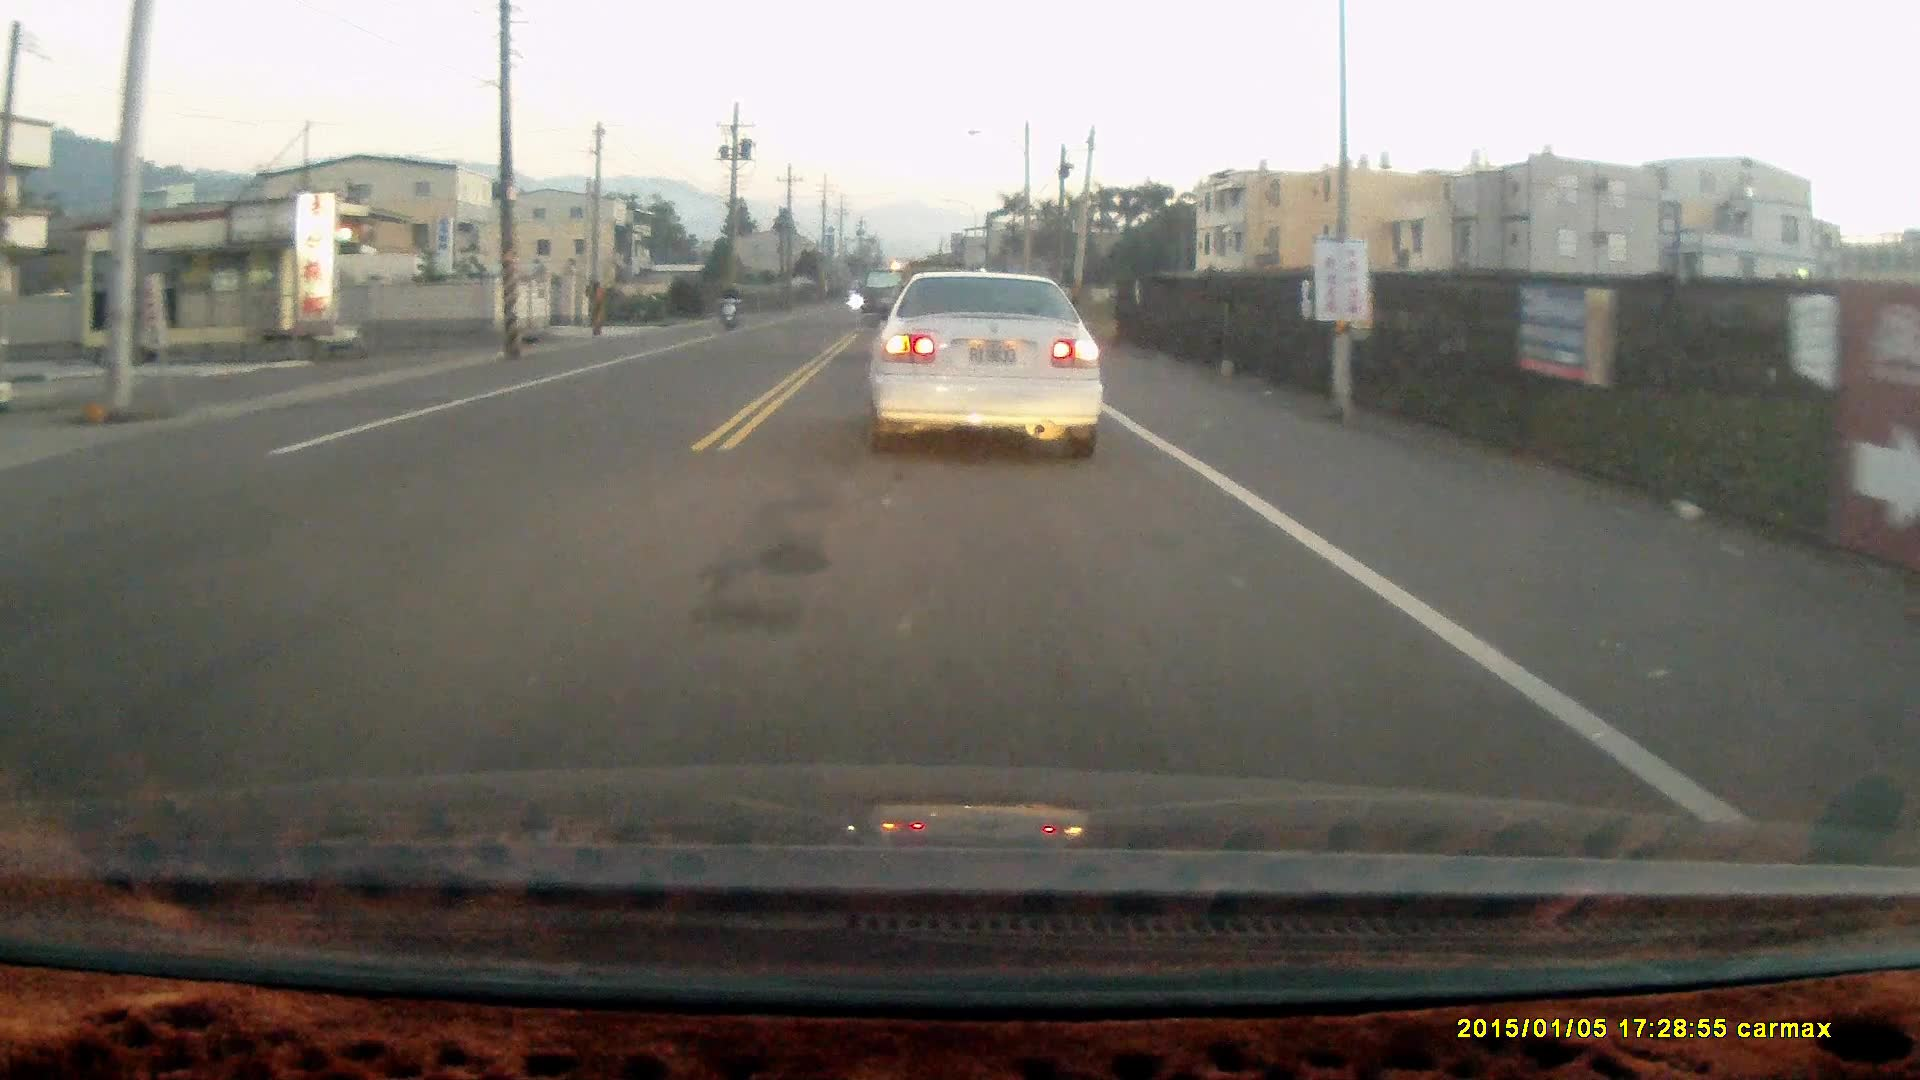rider: (715, 280, 739, 332)
vehicle: (863, 269, 1105, 459)
